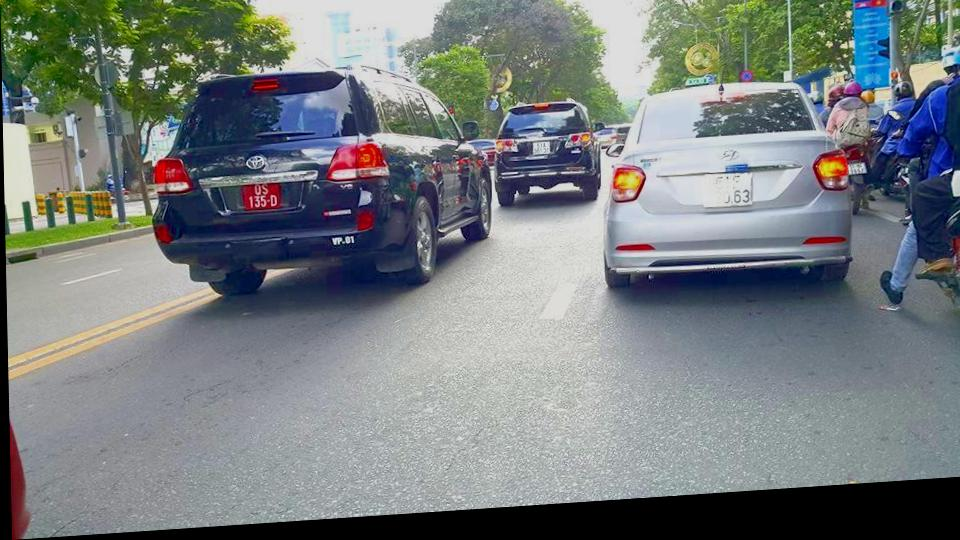License_Plate: (707, 168, 759, 208), (236, 178, 285, 219), (534, 138, 552, 163)
